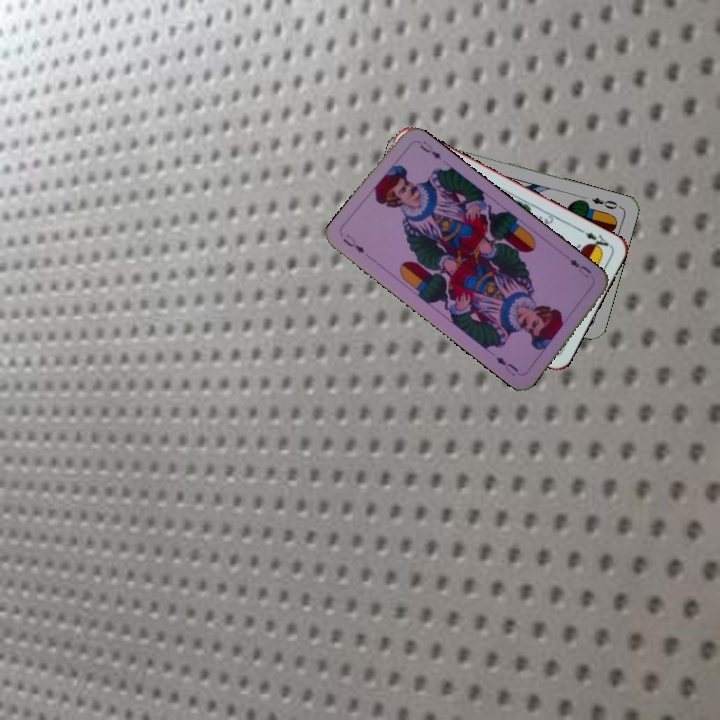EA: (575, 225, 613, 254)
EO: (588, 193, 623, 212)
EU: (339, 230, 367, 256), (565, 255, 594, 280)
